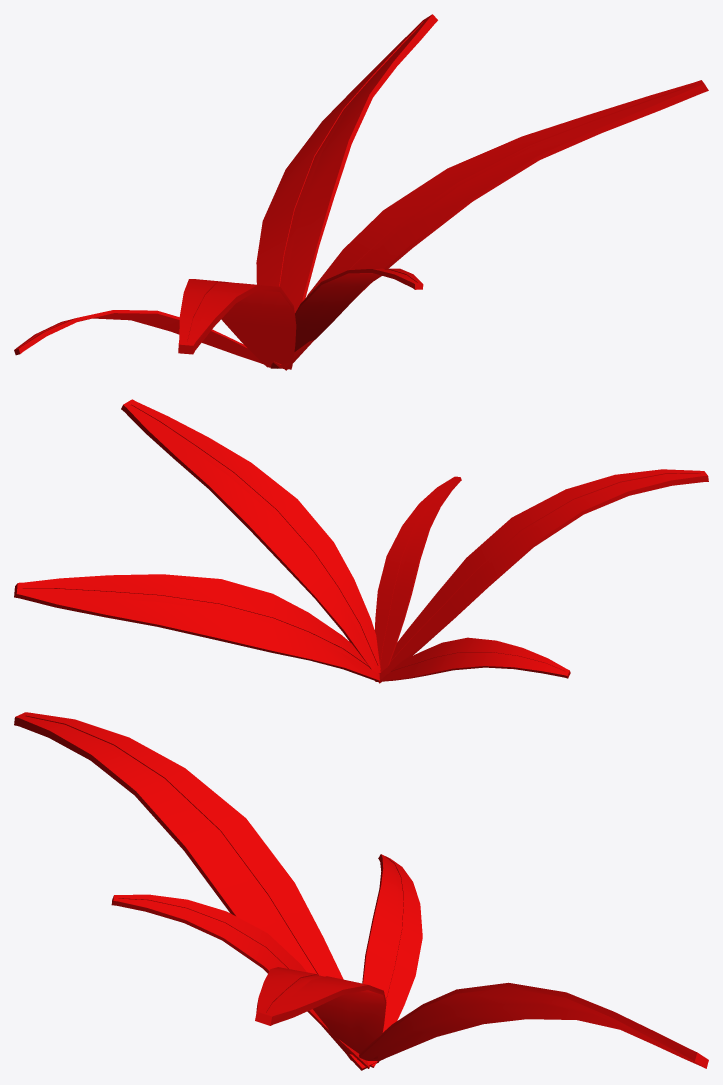
Rendered from Jungle_Burshes_4.fbx.
3 views of the same model, one above another, from view 1: azimuth 30°, elevation 25°; view 2: azimuth 150°, elevation 25°; view 3: azimuth 270°, elevation 25° (orthographic). The views are drawn at different scales.
Parts seen in each view (by area): view 1: MESH_Jungle_Bushes_4; view 2: MESH_Jungle_Bushes_4; view 3: MESH_Jungle_Bushes_4.
Part boxes in pixels (x1,y1,x2,y2): MESH_Jungle_Bushes_4: (14, 14, 708, 370); MESH_Jungle_Bushes_4: (14, 399, 708, 683); MESH_Jungle_Bushes_4: (14, 712, 708, 1070).
Bounding box in the file's own units: 17.11 × 5.96 × 15.24.
